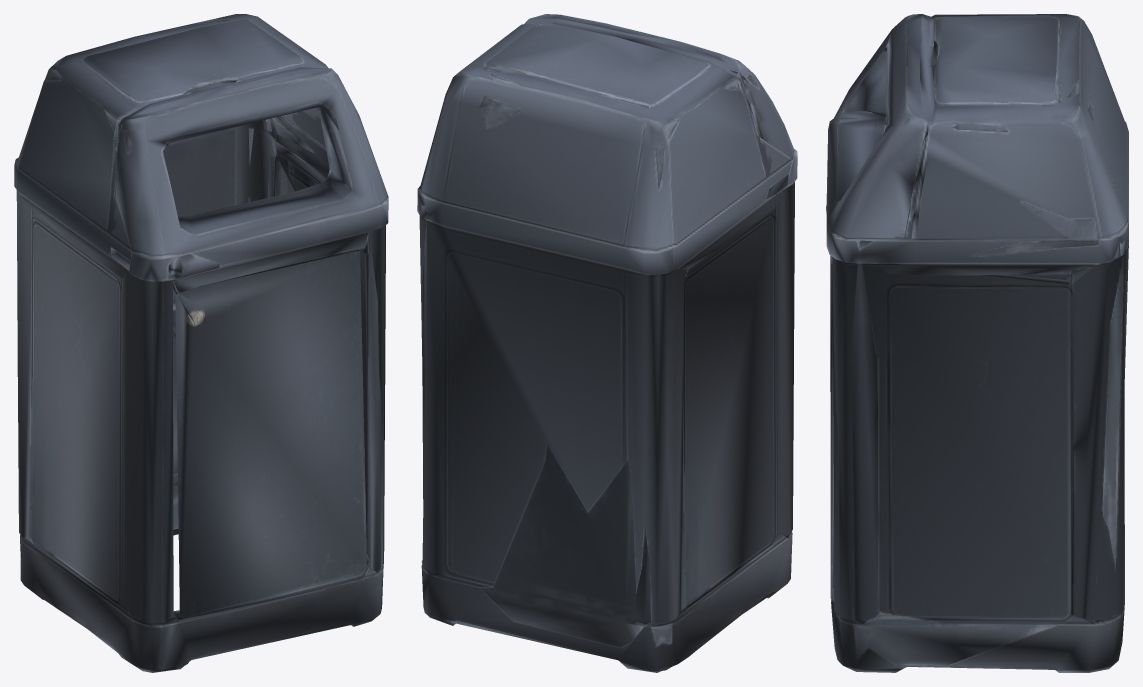
File: prop_trash_bin_model.glb
3 renders of one model, left to right at view 1: azimuth 30°, elevation 25°; view 2: azimuth 150°, elevation 25°; view 3: azimuth 270°, elevation 25°, orthographic. The views are drawn at different scales.
Visible parts, largest first — view 1: Mesh_0.001; view 2: Mesh_0.001; view 3: Mesh_0.001.
Part boxes in pixels (x1,y1,x2,y2): Mesh_0.001: [14, 14, 388, 672]; Mesh_0.001: [417, 14, 797, 672]; Mesh_0.001: [826, 14, 1128, 672].
Size of the model in its own units: 0.4922 by 1 by 0.4923.
1 material, 1 textured.
